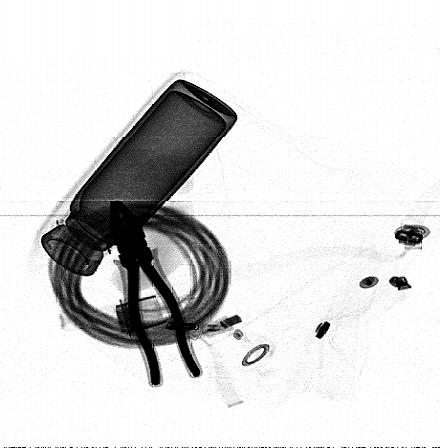Pliers: (110, 199, 200, 386)
